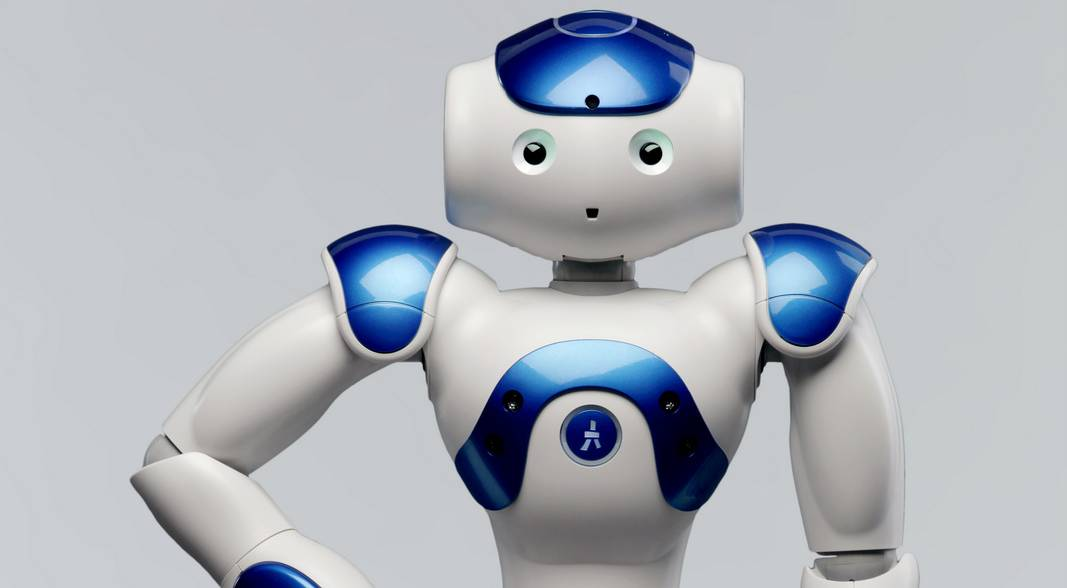nao: (107, 4, 967, 588)
